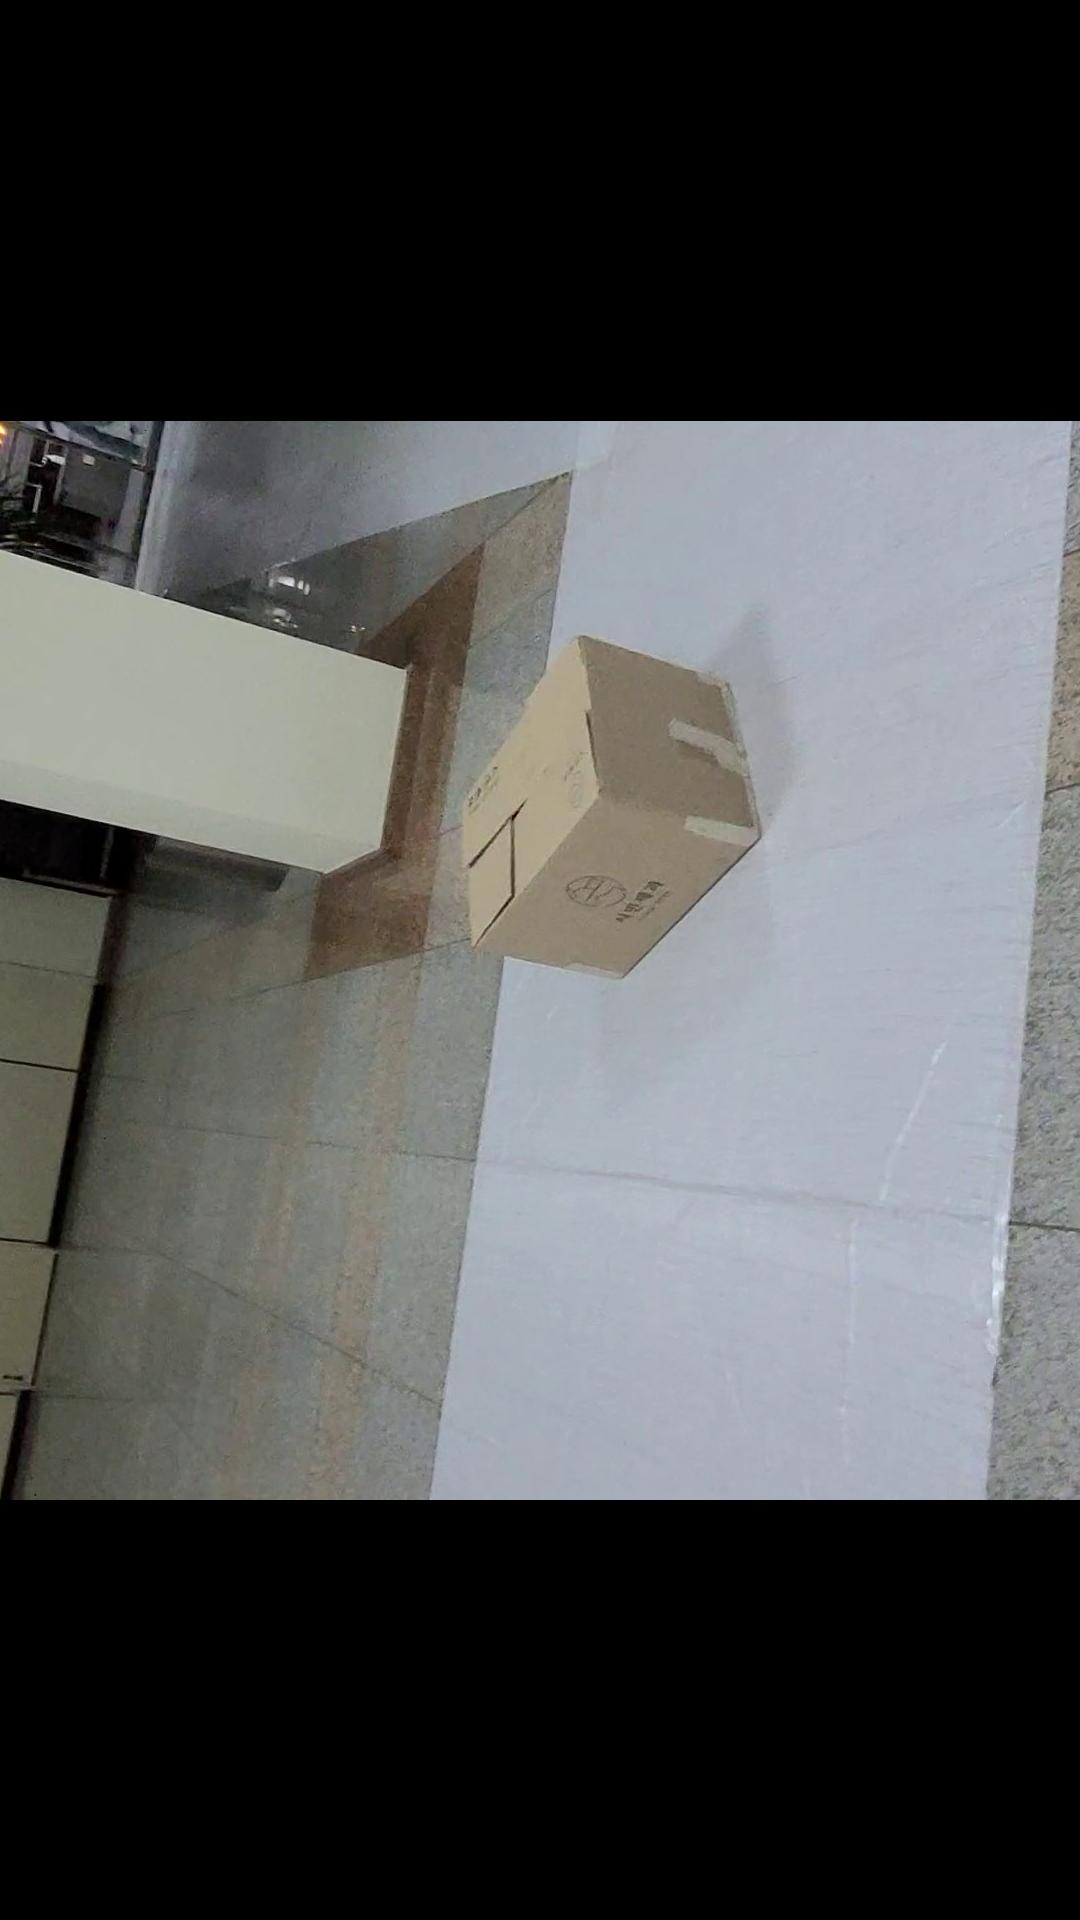Box: (410, 608, 802, 978)
